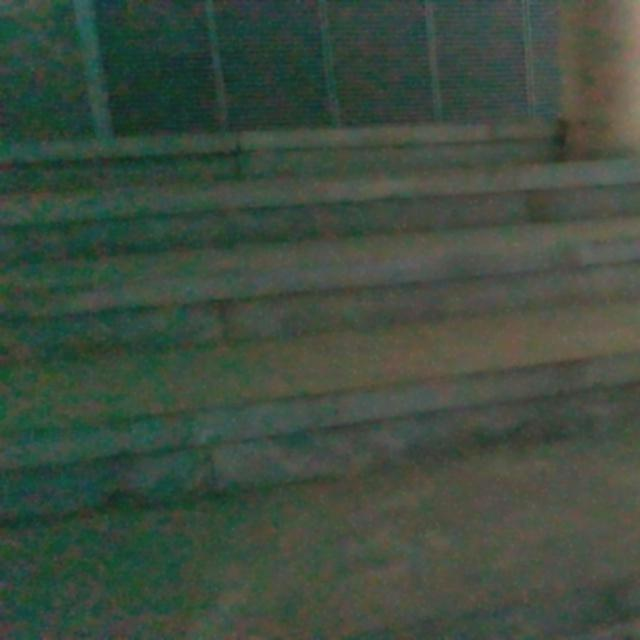stair: (0, 148, 631, 480)
